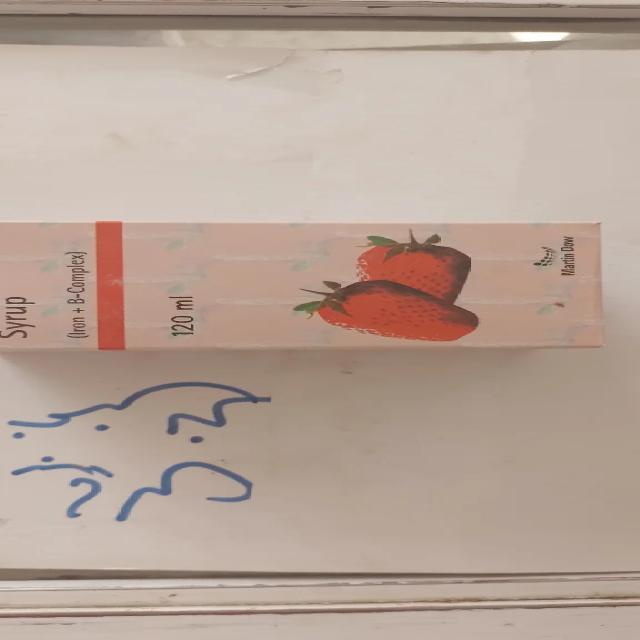drug-name: (63, 254, 91, 337)
